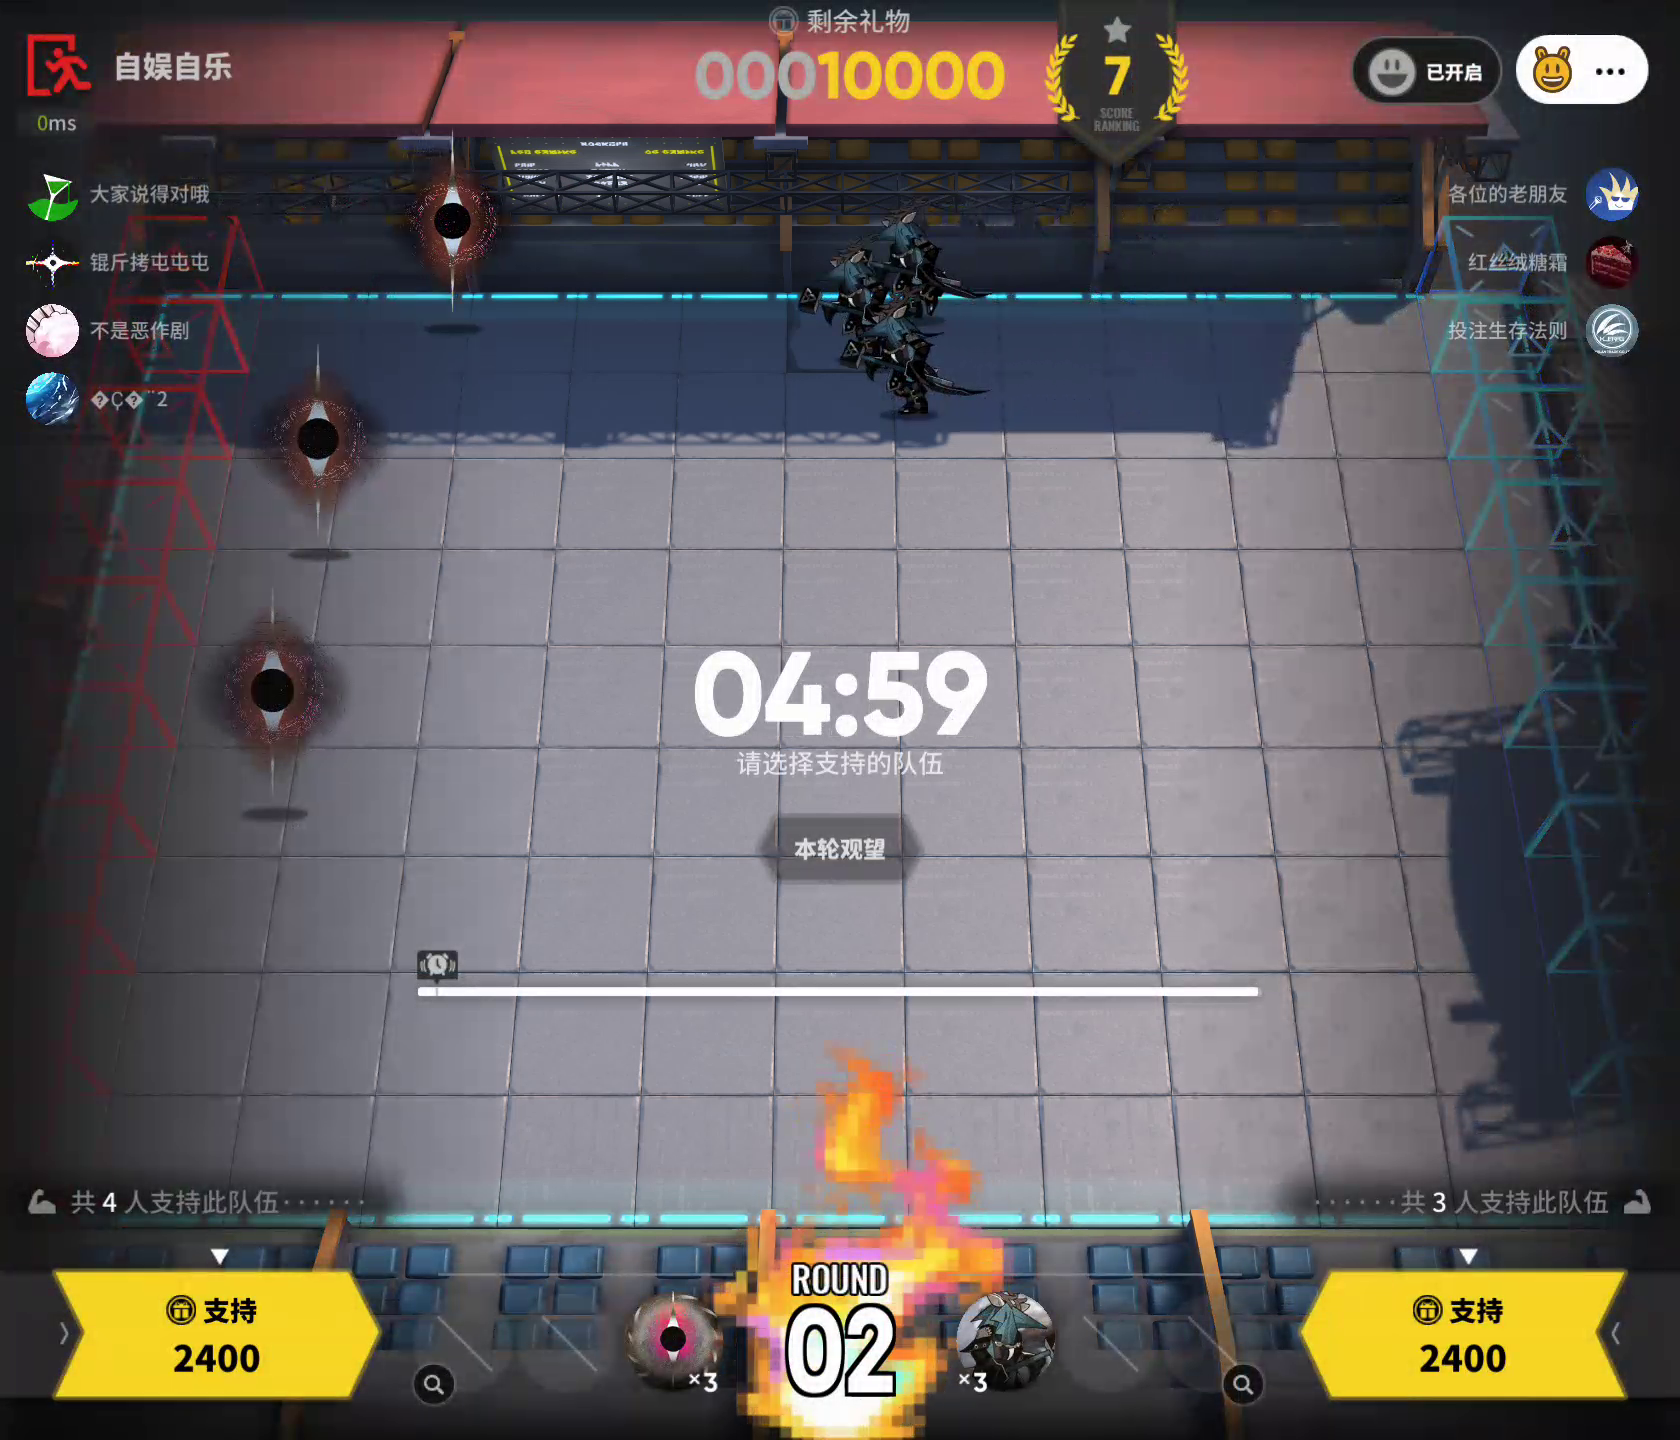“门”: (221, 580, 347, 789), (406, 119, 513, 339), (274, 331, 371, 549), (621, 1280, 729, 1396)
北方战士: (844, 301, 994, 436), (871, 204, 1001, 319), (950, 1274, 1060, 1393), (800, 234, 901, 357)
